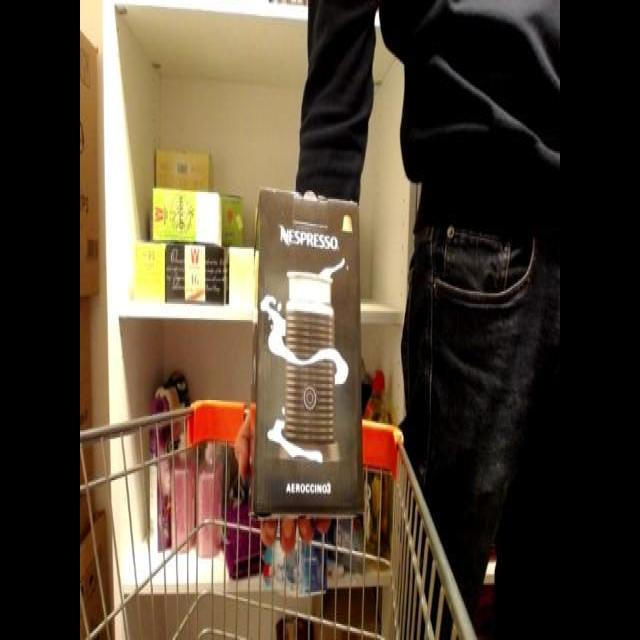Nespresso: (230, 185, 380, 539)
